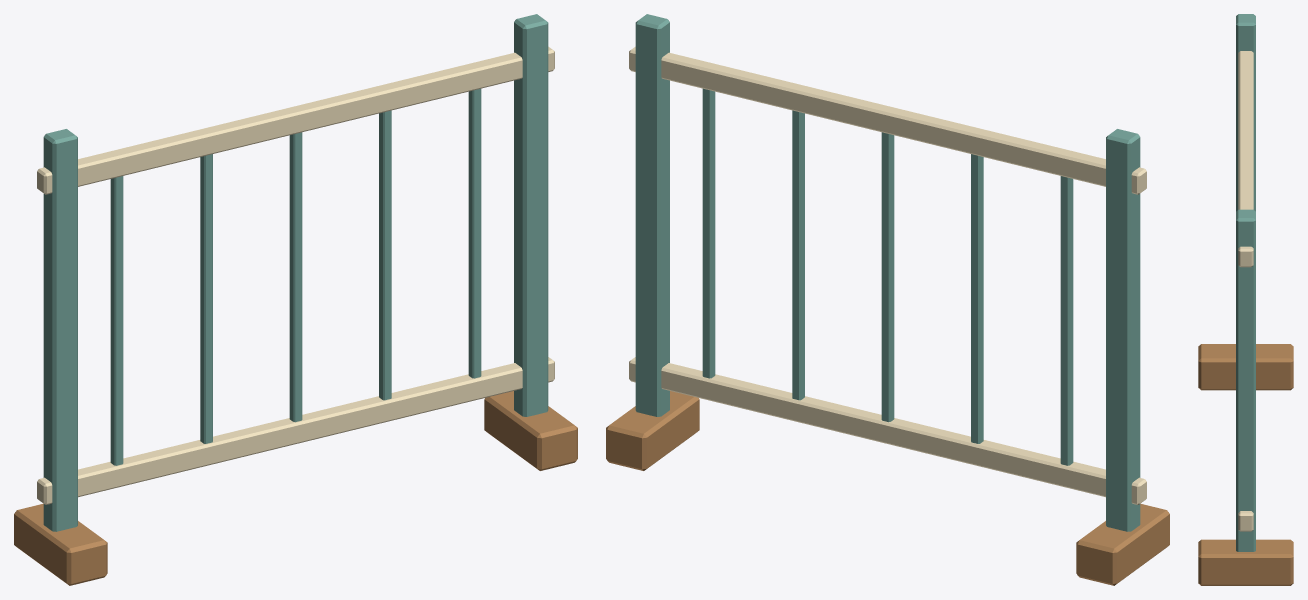
The picture shows the model from 3 angles, left to right: view 1: azimuth 30°, elevation 25°; view 2: azimuth 150°, elevation 25°; view 3: azimuth 270°, elevation 25°; orthographic projection. The views are drawn at different scales.
Parts seen in each view (by area): view 1: sports-court-fence-01; view 2: sports-court-fence-01; view 3: sports-court-fence-01.
Boxes of the visible parts, bbox=[...] form: sports-court-fence-01: bbox=[14, 14, 577, 585]; sports-court-fence-01: bbox=[606, 14, 1169, 585]; sports-court-fence-01: bbox=[1198, 14, 1293, 585].
Bounding box in the file's own units: 2 × 1.6 × 0.38.
